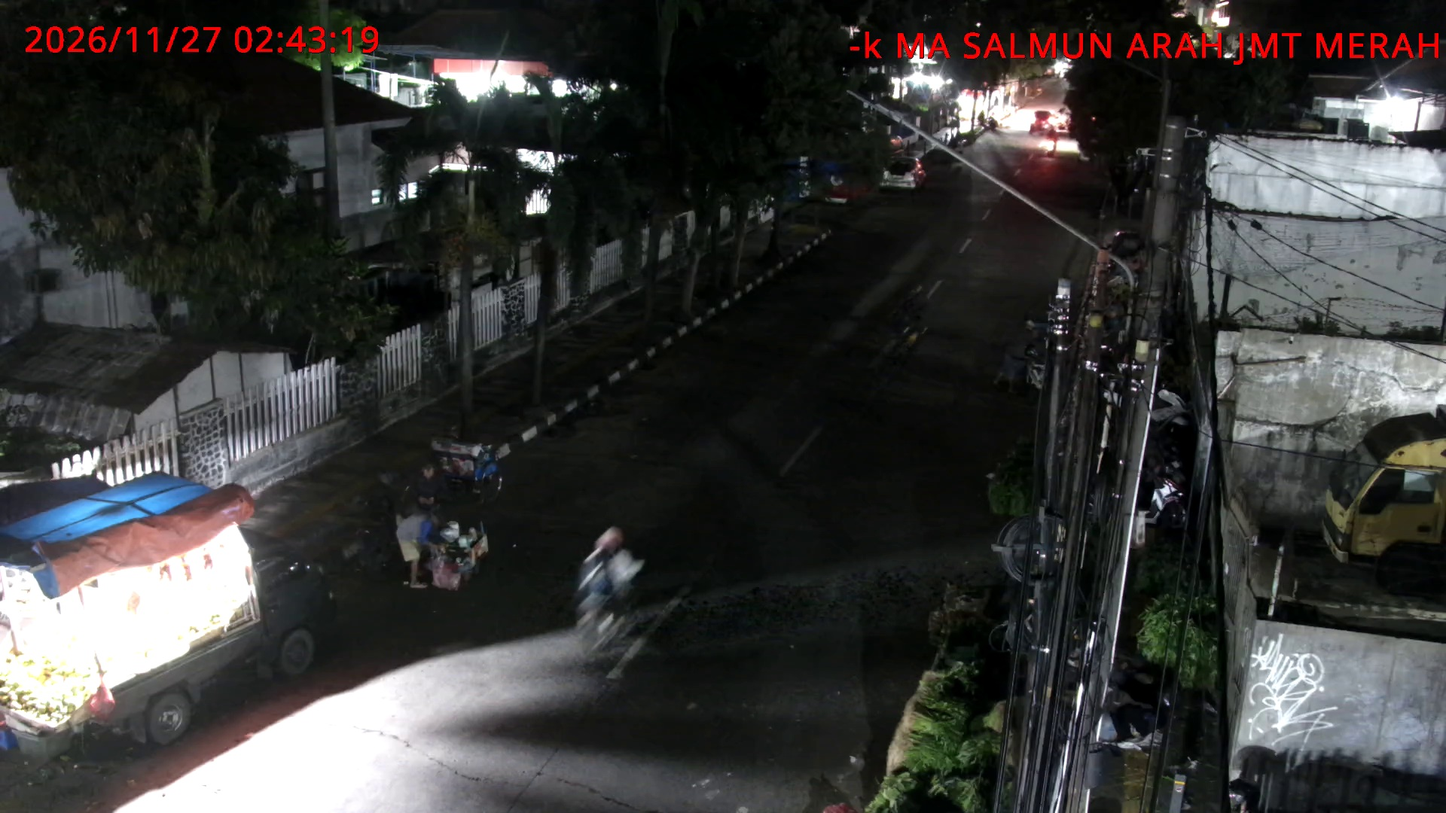Gerobak: (421, 519, 489, 589), (429, 435, 503, 494)
